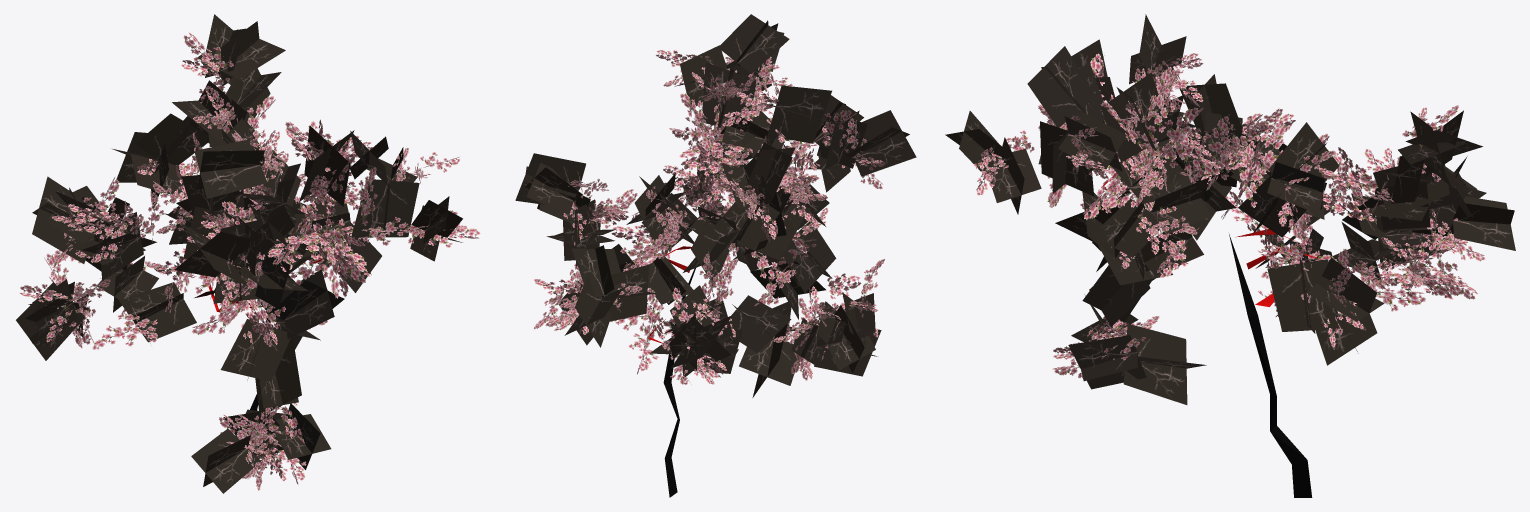
Rendered from sakura1 lod1.FBX.
3 renders of one model, left to right at view 1: azimuth 30°, elevation 25°; view 2: azimuth 150°, elevation 25°; view 3: azimuth 270°, elevation 25°, orthographic. The views are drawn at different scales.
Visible parts, largest first — view 1: sakura1_LOD1; view 2: sakura1_LOD1; view 3: sakura1_LOD1.
Part boxes in pixels (x1=…): sakura1_LOD1: x1=16, y1=14, x2=480, y2=493; sakura1_LOD1: x1=515, y1=14, x2=916, y2=497; sakura1_LOD1: x1=945, y1=14, x2=1515, y2=497.
Bounding box in the file's own units: 95894 × 112810 × 127687.
